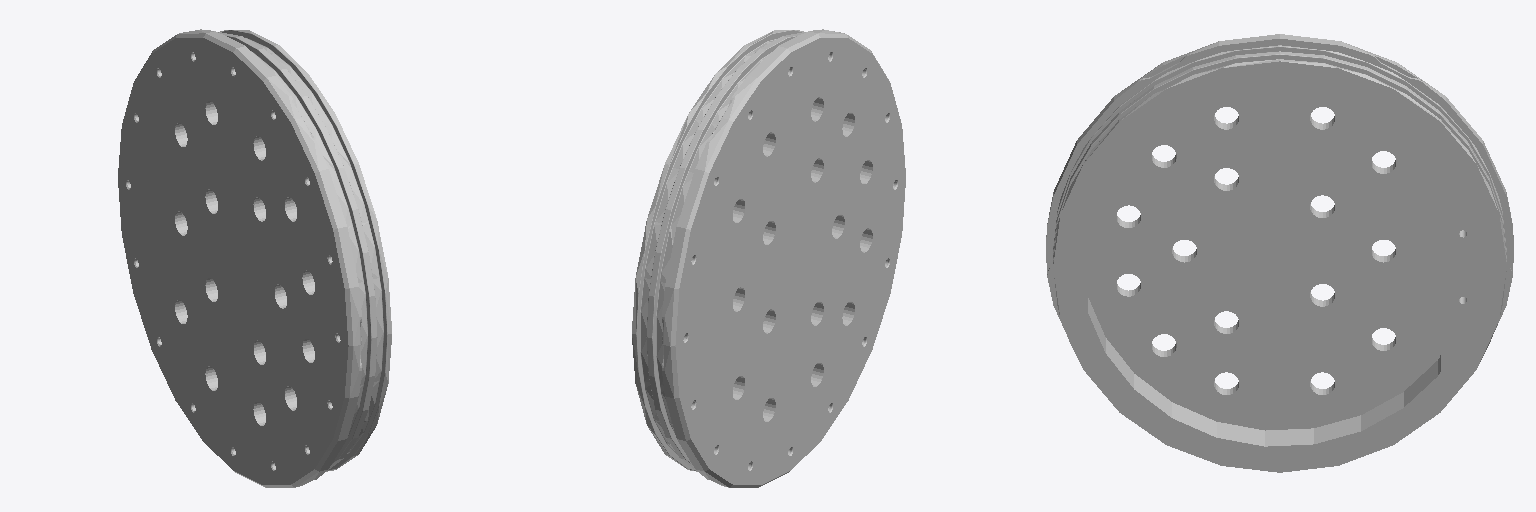
Rendered from Endcap_03_Endcap.obj.
3 views of the same model, side by side, from view 1: azimuth 30°, elevation 25°; view 2: azimuth 150°, elevation 25°; view 3: azimuth 270°, elevation 25° (orthographic).
Size of the model in its own units: 0.0229 by 0.2032 by 0.2032.